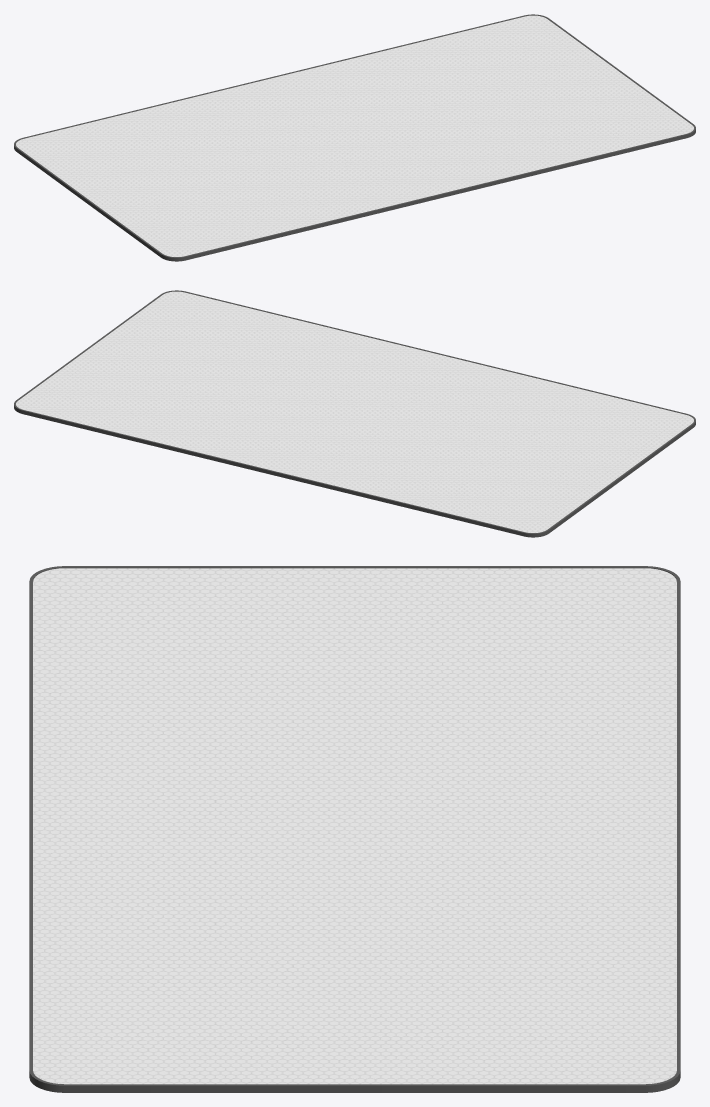
Rendered from MOb_Rug_002_17x9.fbx.
3 renders of one model, top to bottom at view 1: azimuth 30°, elevation 25°; view 2: azimuth 150°, elevation 25°; view 3: azimuth 270°, elevation 25°, orthographic. The views are drawn at different scales.
Visible parts, largest first — view 1: MOb_Rug_002_17x9; view 2: MOb_Rug_002_17x9; view 3: MOb_Rug_002_17x9.
Boxes of the visible parts, x1=… form: MOb_Rug_002_17x9: x1=14, y1=14, x2=695, y2=261; MOb_Rug_002_17x9: x1=14, y1=290, x2=695, y2=537; MOb_Rug_002_17x9: x1=29, y1=566, x2=680, y2=1092.
Bounding box in the file's own units: 17 × 0.11 × 9.
